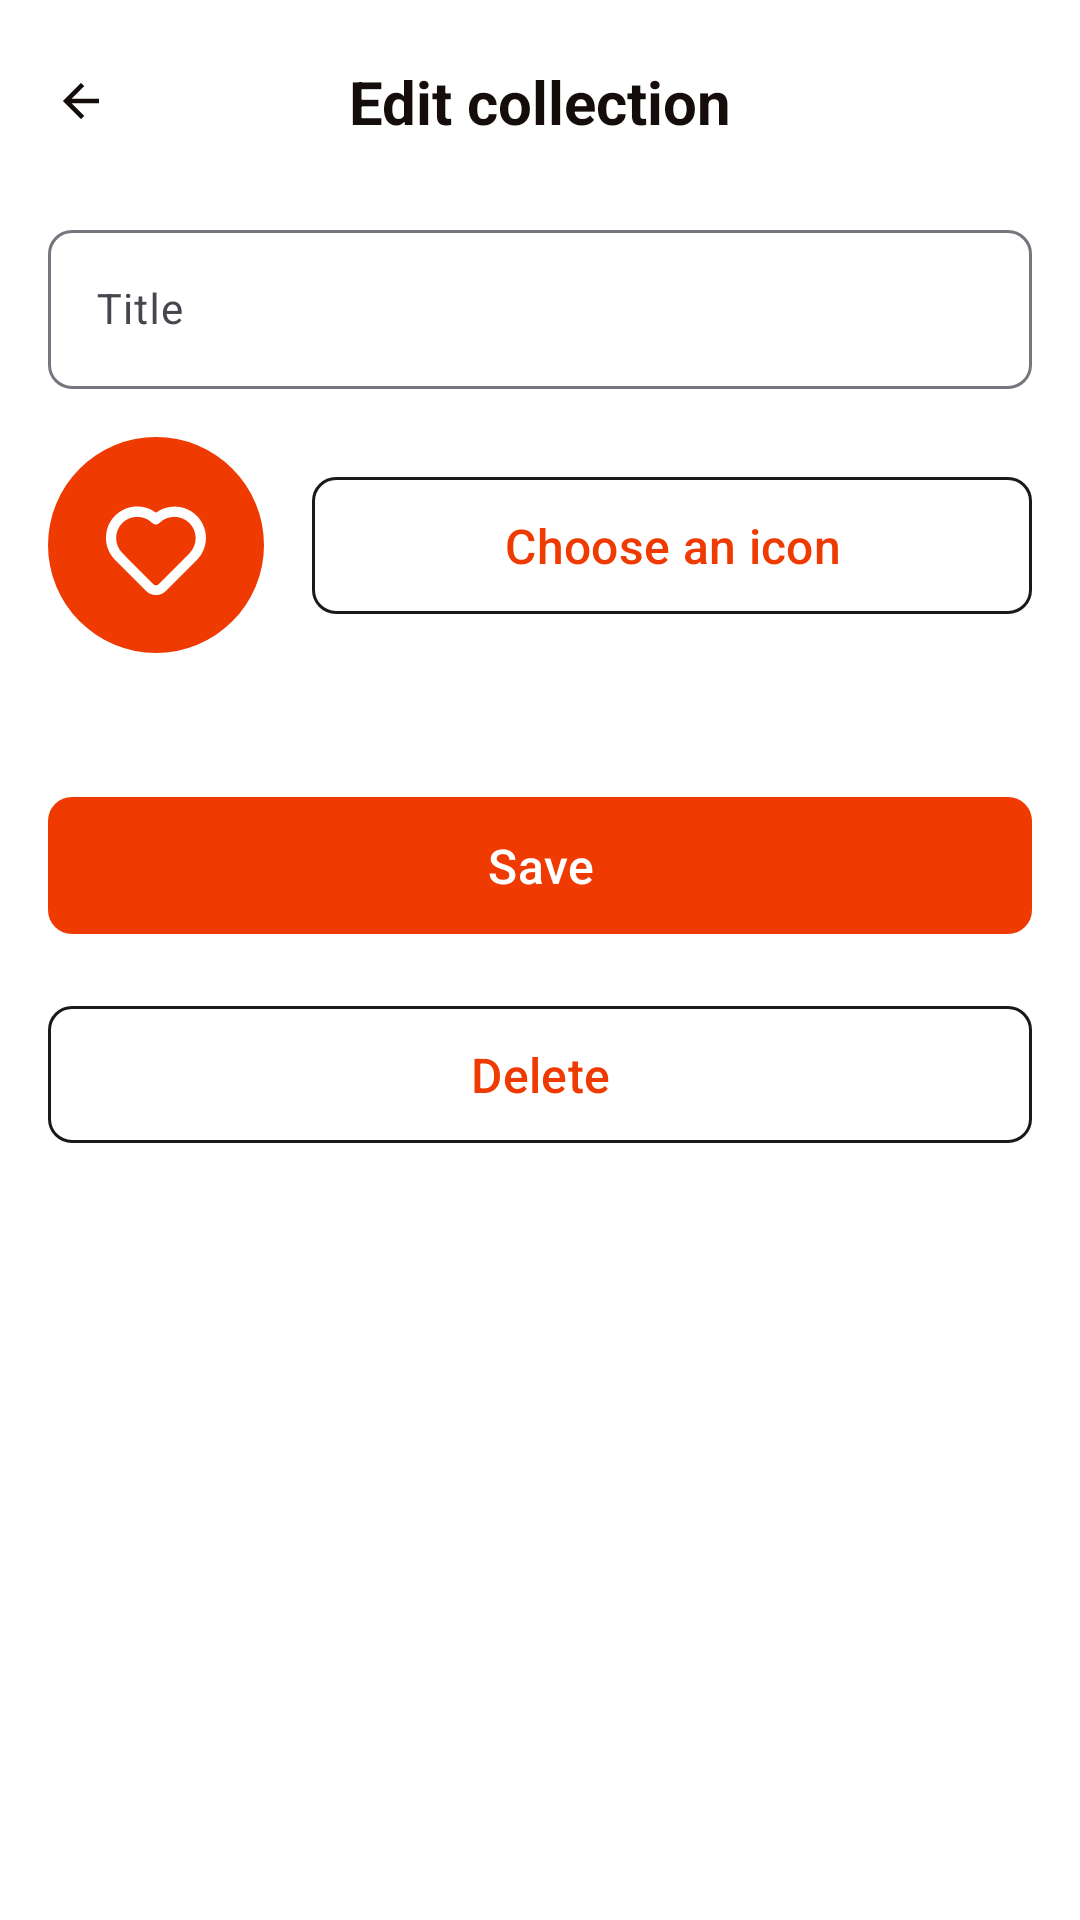

Icons on this 1080×1920 Android screen, each with the point to tap as point (x, y):
back: point (81, 101)
